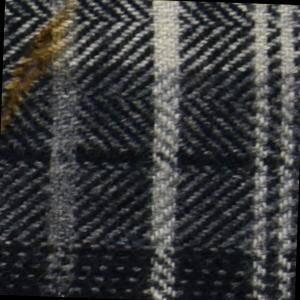Oil Stain: (2, 1, 79, 140)
